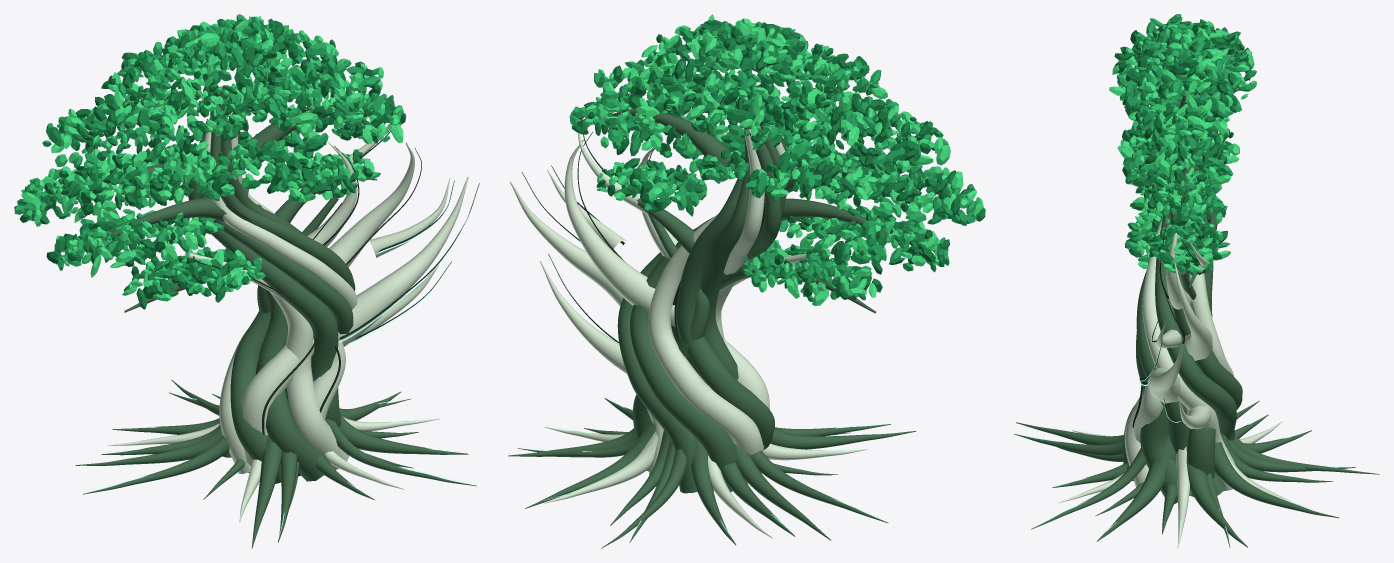
File: world-tree-v1.glb
3 renders of one model, left to right at view 1: azimuth 30°, elevation 25°; view 2: azimuth 150°, elevation 25°; view 3: azimuth 270°, elevation 25°, orthographic. The views are drawn at different scales.
Visible parts, largest first — view 1: foliage clusters 3, foliage clusters 1, foliage clusters 2, braided trunk strand 1, braided trunk strand 2, braided trunk strand 3, hooked deadwood limb 1, braided trunk strand 4, braided trunk strand 9, braided trunk strand 8, crossing trunk ribbon 1, braided trunk strand 7 (+20 smaller); view 2: foliage clusters 1, foliage clusters 3, foliage clusters 2, braided trunk strand 5, braided trunk strand 4, braided trunk strand 6, hooked deadwood limb 2, braided trunk strand 7, braided trunk strand 3, braided trunk strand 2, hooked deadwood limb 1, crossing trunk ribbon 2 (+23 smaller); view 3: foliage clusters 3, foliage clusters 2, foliage clusters 1, braided trunk strand 7, braided trunk strand 8, braided trunk strand 9, braided trunk strand 1, root 22, root 3, crossing trunk ribbon 2, braided trunk strand 6, hooked deadwood limb 2 (+15 smaller).
Part boxes in pixels (bbox=[...]): foliage clusters 3: bbox=[21, 16, 403, 301]; foliage clusters 1: bbox=[20, 18, 406, 309]; foliage clusters 2: bbox=[14, 14, 403, 295]; braided trunk strand 1: bbox=[188, 116, 341, 427]; braided trunk strand 2: bbox=[270, 292, 349, 469]; braided trunk strand 3: bbox=[257, 288, 331, 481]; hooked deadwood limb 1: bbox=[338, 176, 468, 346]; braided trunk strand 4: bbox=[230, 130, 281, 483]; braided trunk strand 9: bbox=[197, 119, 353, 334]; braided trunk strand 8: bbox=[204, 123, 357, 309]; crossing trunk ribbon 1: bbox=[241, 338, 314, 465]; braided trunk strand 7: bbox=[210, 131, 355, 291]; foliage clusters 1: bbox=[571, 20, 985, 300]; foliage clusters 3: bbox=[584, 14, 983, 305]; foliage clusters 2: bbox=[569, 20, 976, 301]; braided trunk strand 5: bbox=[648, 214, 763, 483]; braided trunk strand 4: bbox=[676, 157, 774, 449]; braided trunk strand 6: bbox=[630, 217, 736, 491]; hooked deadwood limb 2: bbox=[564, 139, 675, 326]; braided trunk strand 7: bbox=[617, 137, 787, 493]; braided trunk strand 3: bbox=[701, 127, 751, 380]; braided trunk strand 2: bbox=[715, 129, 764, 339]; hooked deadwood limb 1: bbox=[510, 181, 623, 306]; crossing trunk ribbon 2: bbox=[633, 214, 709, 438]; foliage clusters 3: bbox=[1109, 17, 1256, 273]; foliage clusters 2: bbox=[1117, 14, 1256, 275]; foliage clusters 1: bbox=[1114, 19, 1251, 272]; braided trunk strand 7: bbox=[1155, 212, 1236, 440]; braided trunk strand 8: bbox=[1142, 220, 1234, 491]; braided trunk strand 9: bbox=[1136, 270, 1226, 495]; braided trunk strand 1: bbox=[1136, 331, 1192, 504]; root 22: bbox=[1214, 441, 1338, 518]; root 3: bbox=[1097, 435, 1175, 541]; crossing trunk ribbon 2: bbox=[1180, 272, 1215, 496]; braided trunk strand 6: bbox=[1170, 211, 1242, 409]; hooked deadwood limb 2: bbox=[1174, 262, 1212, 360].
Size of the model in its own units: 4.76 by 4.54 by 3.52.
